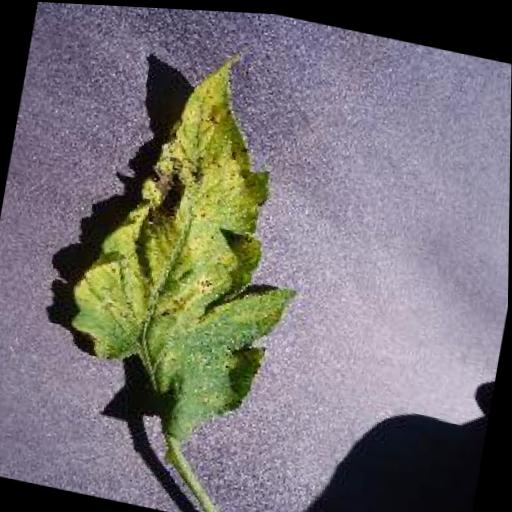Septoria: (49, 22, 339, 459)
